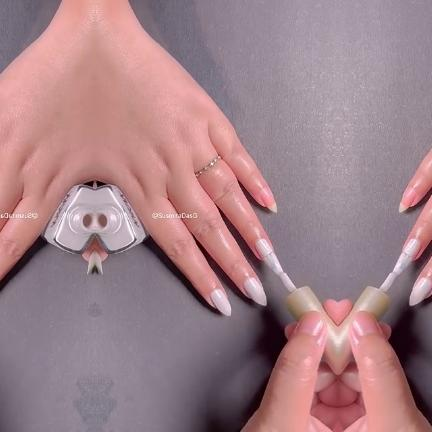Nail: (242, 278, 266, 306), (408, 278, 432, 306), (209, 288, 230, 316), (259, 187, 276, 213), (398, 187, 415, 213), (254, 239, 273, 259), (401, 239, 420, 259)
